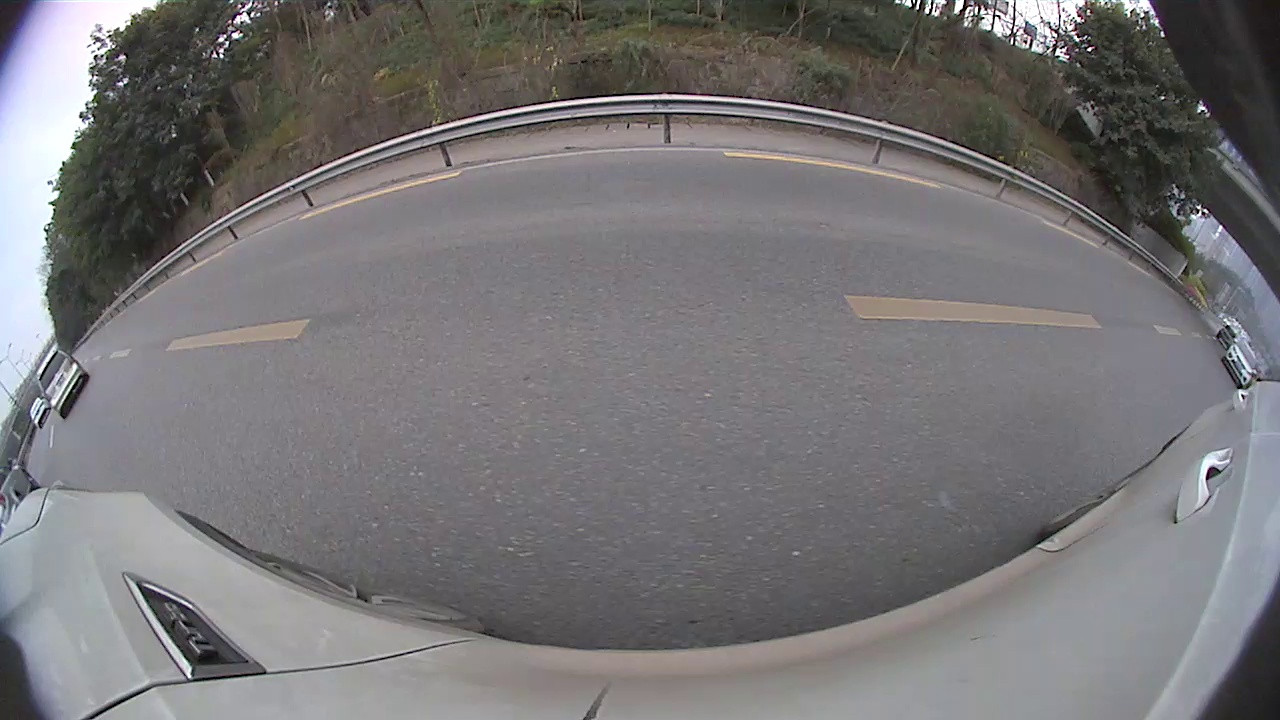car: (34, 346, 91, 421), (1220, 338, 1259, 390), (26, 393, 54, 431), (1215, 324, 1237, 351)
